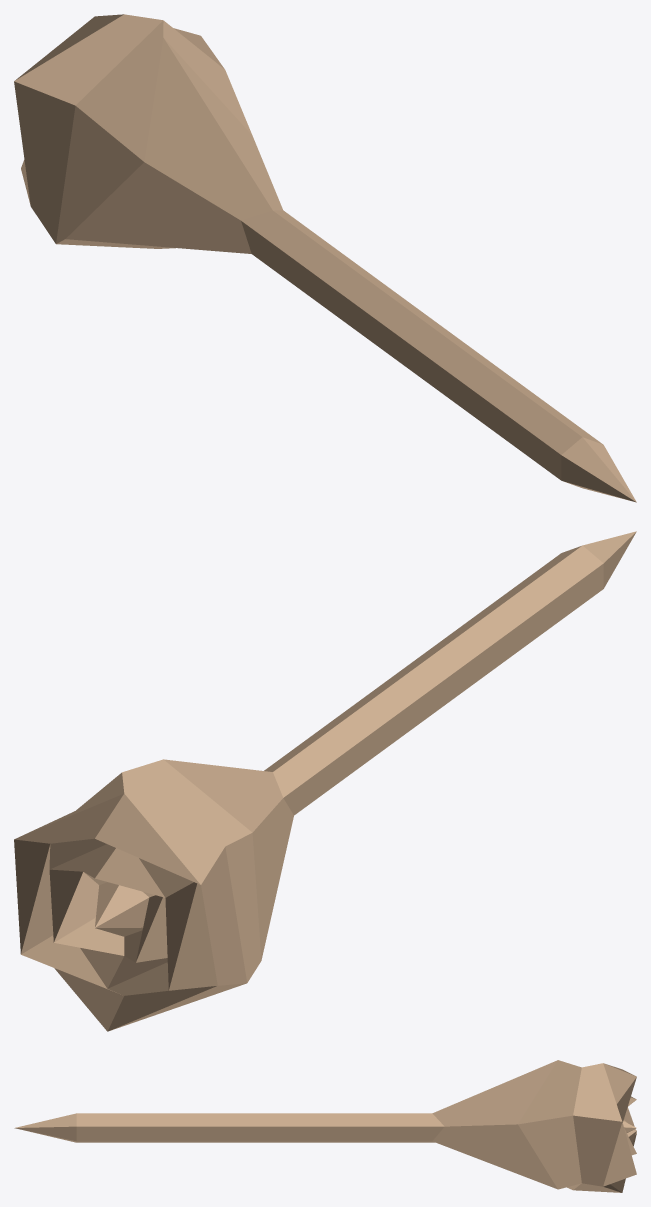
The model's file is Collin_Blowdart.fbx.
3 views of the same model, one above another, from view 1: azimuth 30°, elevation 25°; view 2: azimuth 150°, elevation 25°; view 3: azimuth 270°, elevation 25° (orthographic). The views are drawn at different scales.
Visible parts, largest first — view 1: BlowDart; view 2: BlowDart; view 3: BlowDart.
Boxes of the visible parts, box(x1,y1,x2,y2) form: BlowDart: box(14, 14, 636, 502); BlowDart: box(14, 531, 636, 1031); BlowDart: box(14, 1060, 636, 1192).
Size of the model in its own units: 1.36 by 1.54 by 6.52.
